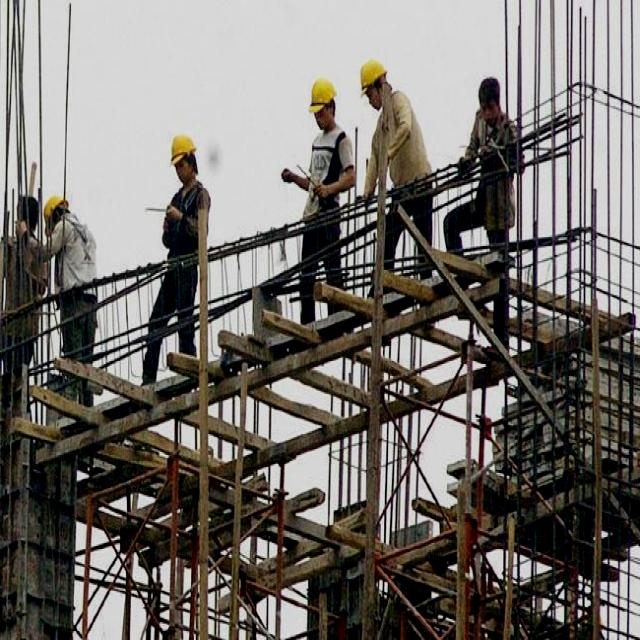face_nomask: (364, 79, 386, 115), (175, 154, 200, 185), (313, 103, 336, 133), (478, 97, 498, 127)
hand_noglove: (164, 198, 181, 233), (315, 174, 334, 204), (277, 166, 293, 188)
head_helmet: (308, 74, 337, 112), (359, 56, 386, 90), (41, 198, 69, 224), (170, 134, 194, 164)
head_nohelmet: (474, 70, 501, 99)
person: (448, 78, 514, 337), (358, 57, 431, 276), (291, 79, 354, 322), (144, 136, 207, 376), (44, 200, 100, 377), (4, 194, 42, 388)
